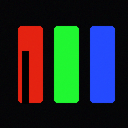4 line_v: (22, 51, 28, 103)
